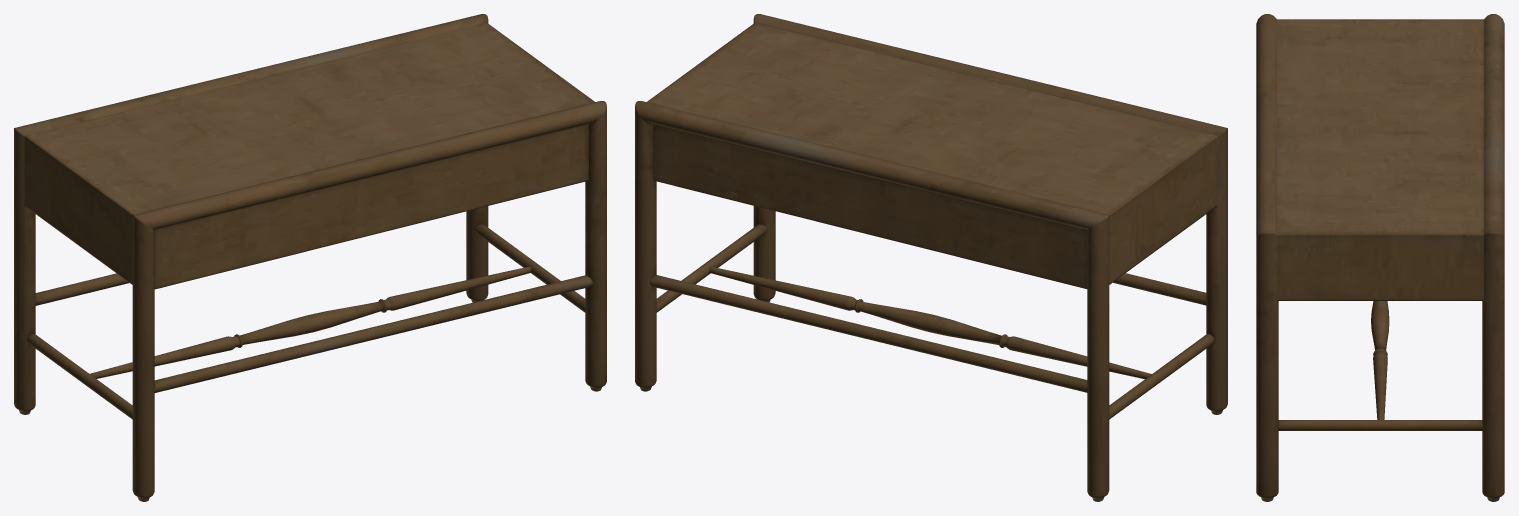
The model's file is small_wooden_table_01.glb.
3 renders of one model, left to right at view 1: azimuth 30°, elevation 25°; view 2: azimuth 150°, elevation 25°; view 3: azimuth 270°, elevation 25°, orthographic. The views are drawn at different scales.
Parts seen in each view (by area): view 1: small_wooden_table_01; view 2: small_wooden_table_01; view 3: small_wooden_table_01.
Boxes of the visible parts, x1=… form: small_wooden_table_01: x1=14, y1=14, x2=606, y2=501; small_wooden_table_01: x1=635, y1=14, x2=1227, y2=501; small_wooden_table_01: x1=1256, y1=14, x2=1504, y2=501.
Size of the model in its own units: 1 by 0.5819 by 0.4801.
Materials: 1 (1 with a texture image).
